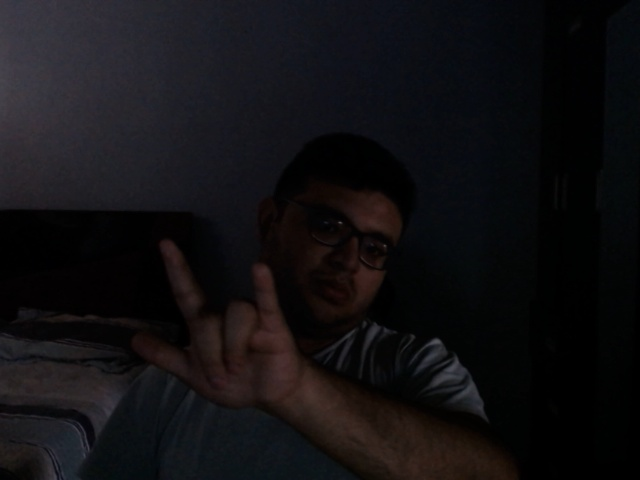I love you: (126, 236, 314, 418)
